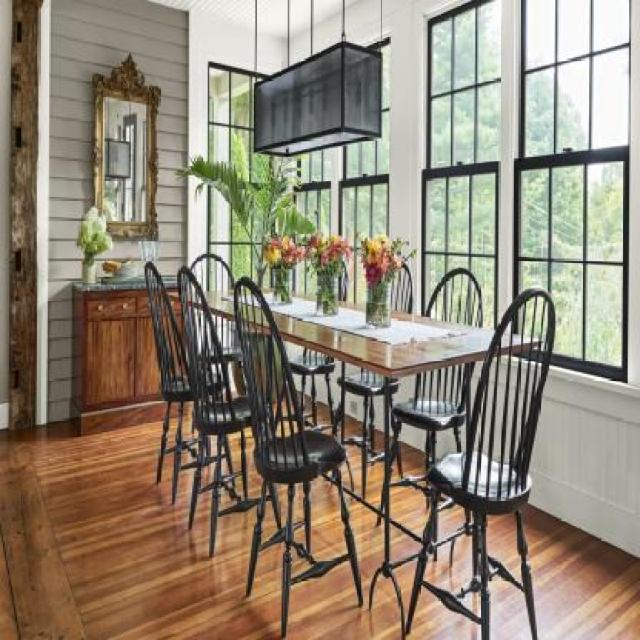floor: (3, 418, 285, 640), (521, 502, 640, 640), (411, 589, 481, 640), (491, 572, 535, 640), (313, 475, 347, 558), (487, 516, 522, 590), (428, 536, 472, 594), (389, 483, 429, 544), (244, 428, 267, 498), (338, 445, 362, 496), (438, 503, 473, 537), (390, 531, 423, 560), (396, 563, 413, 616), (400, 442, 424, 477), (367, 461, 386, 504), (273, 490, 289, 534), (168, 402, 182, 447), (293, 490, 304, 540), (228, 433, 240, 472), (463, 590, 480, 616), (346, 414, 362, 437), (201, 461, 214, 487), (317, 402, 331, 423), (181, 410, 191, 438), (372, 432, 384, 448), (181, 452, 196, 464), (208, 438, 218, 449)
